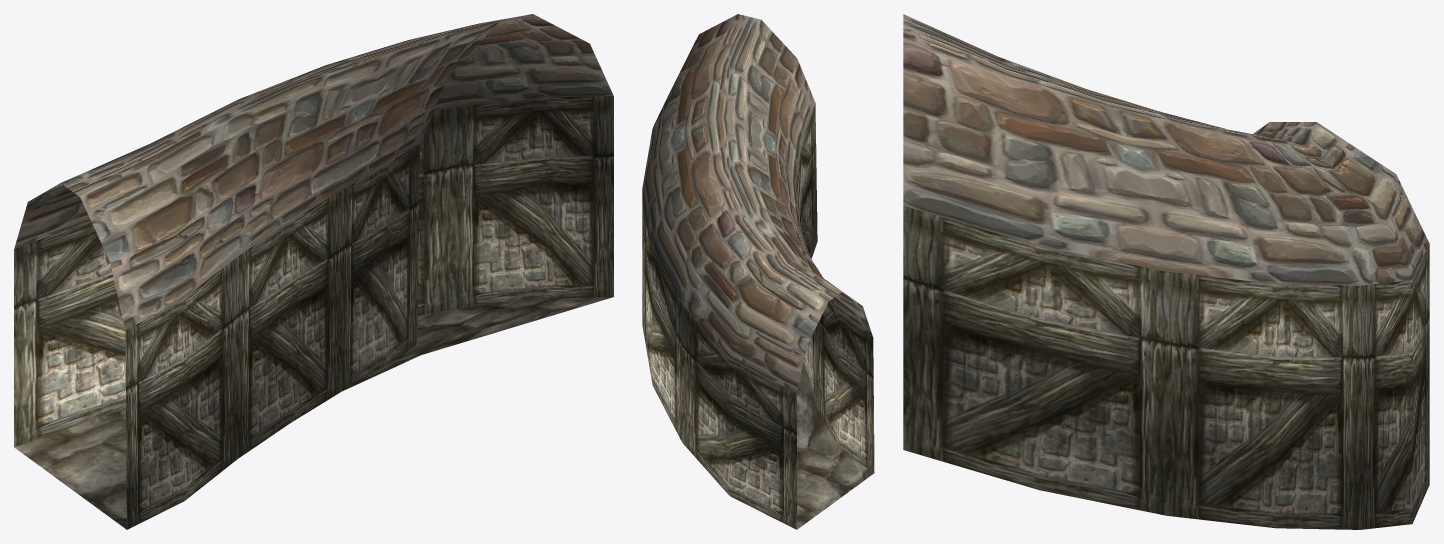
The model's file is stormwind_087.fbx.
3 renders of one model, left to right at view 1: azimuth 30°, elevation 25°; view 2: azimuth 150°, elevation 25°; view 3: azimuth 270°, elevation 25°, orthographic. The views are drawn at different scales.
Parts seen in each view (by area): view 1: stormwind_087_58, stormwind_087_38, stormwind_087_57; view 2: stormwind_087_38, stormwind_087_58, stormwind_087_57; view 3: stormwind_087_58, stormwind_087_38.
Boxes of the visible parts, bbox=[...] form: stormwind_087_58: bbox=[14, 96, 613, 529]; stormwind_087_38: bbox=[14, 14, 613, 330]; stormwind_087_57: bbox=[14, 297, 613, 529]; stormwind_087_38: bbox=[642, 14, 872, 393]; stormwind_087_58: bbox=[642, 103, 874, 529]; stormwind_087_57: bbox=[797, 365, 874, 529]; stormwind_087_58: bbox=[903, 206, 1429, 529]; stormwind_087_38: bbox=[903, 14, 1429, 285].
Bounding box in the file's own units: 7.84 × 10.14 × 7.68.
